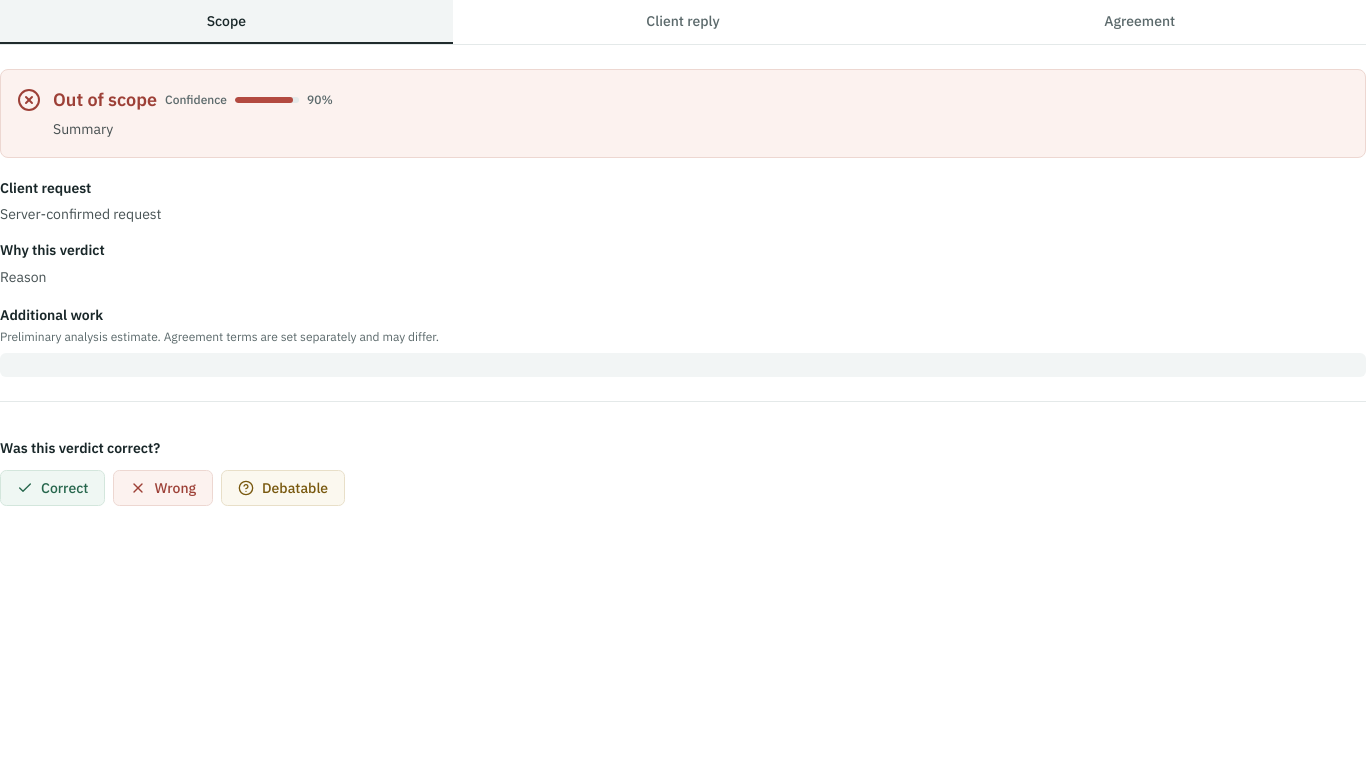
Scenario: restores current persisted estimate provenance for deadline 2027-02-01, without forcing regeneration after another edit
The width and height of the screenshot is (1366, 768).
Click the tab "Agreement": [1140, 22] box [913, 0, 1365, 44]
(page scrolled)
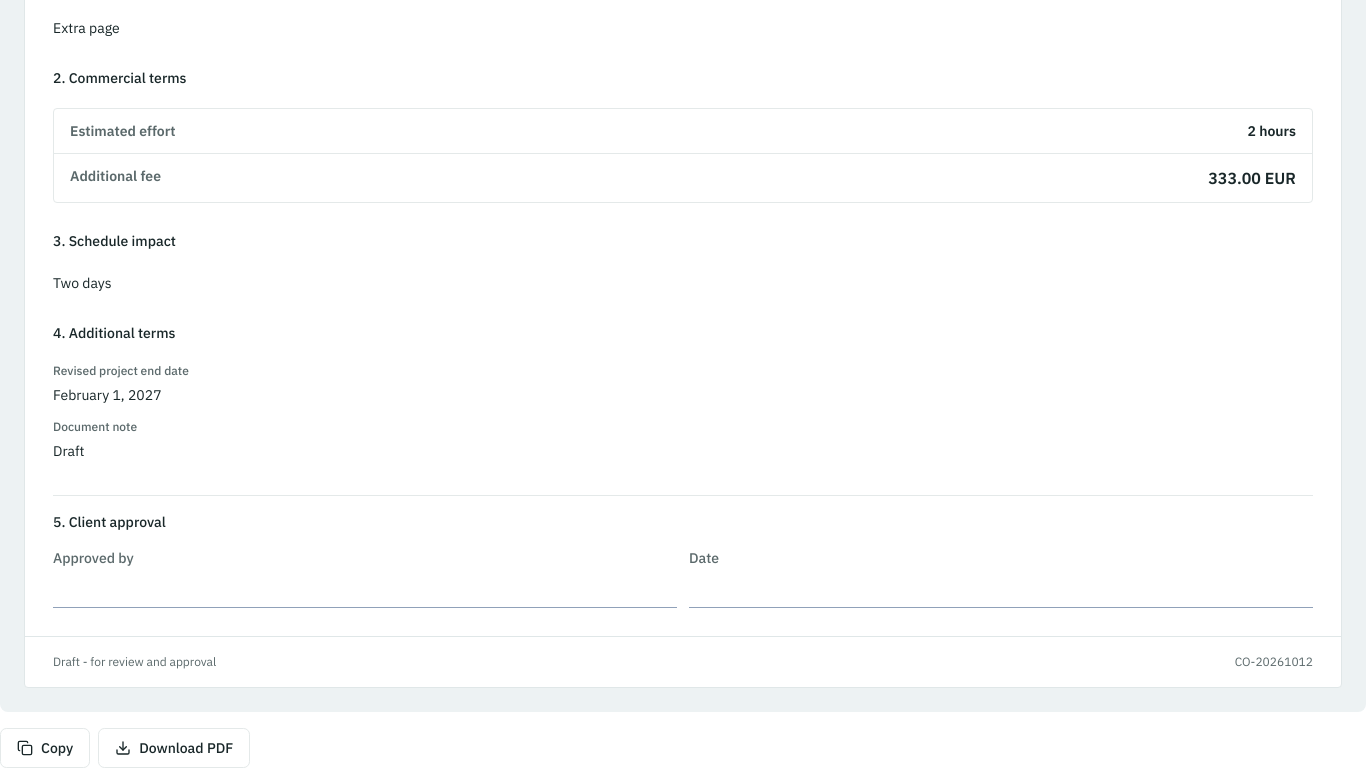
Check: the button "Download PDF" is shown, box [98, 728, 250, 767]
